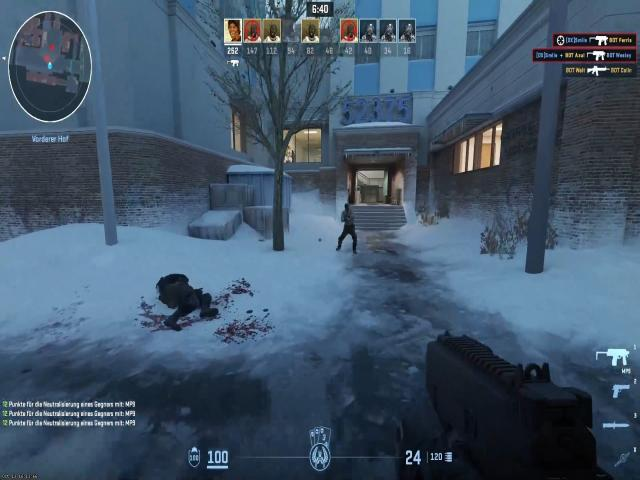Dead: (148, 268, 224, 334)
T: (339, 202, 356, 236)
T-Head: (341, 204, 353, 214)
